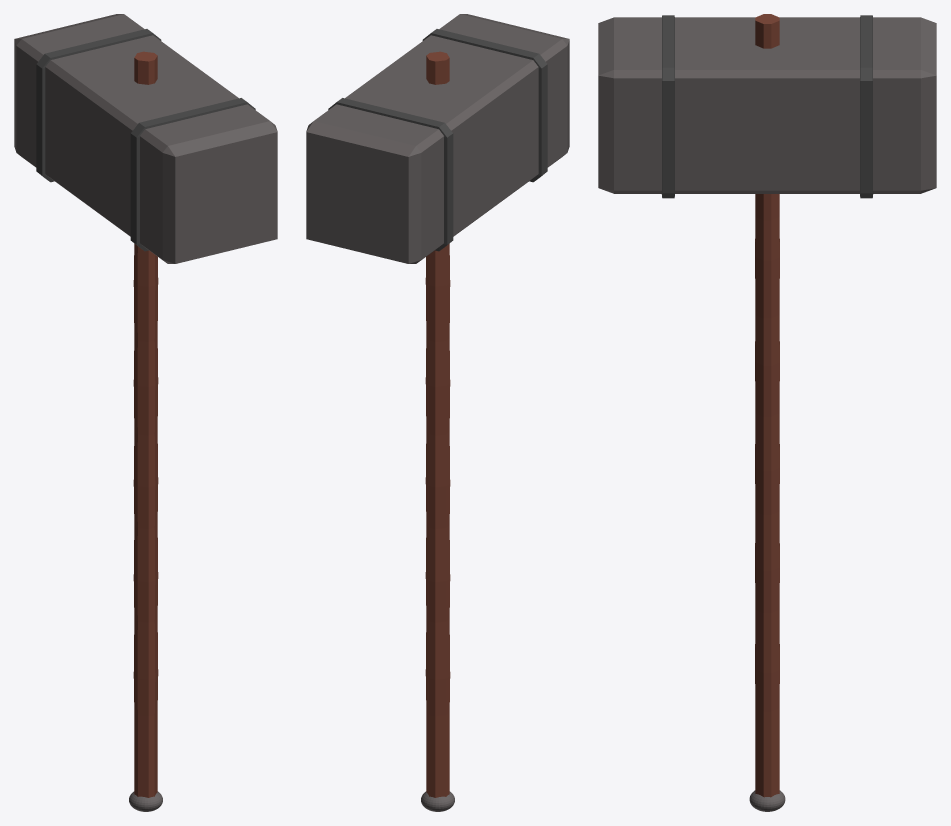
Rendered from cocan.fbx.
3 renders of one model, left to right at view 1: azimuth 30°, elevation 25°; view 2: azimuth 150°, elevation 25°; view 3: azimuth 270°, elevation 25°, orthographic. The views are drawn at different scales.
Parts seen in each view (by area): view 1: Cube, Cube.001, Cube.002, Sphere; view 2: Cube, Cube.001, Cube.002, Sphere; view 3: Cube, Cube.001, Cube.002.
Boxes of the visible parts, left/top/right/bottom form: Cube: left=14, top=14, right=277, bottom=263; Cube.001: left=133, top=51, right=158, bottom=797; Cube.002: left=36, top=29, right=255, bottom=251; Sphere: left=129, top=791, right=162, bottom=811; Cube: left=306, top=14, right=569, bottom=263; Cube.001: left=425, top=51, right=450, bottom=797; Cube.002: left=328, top=29, right=547, bottom=251; Sphere: left=421, top=791, right=454, bottom=811; Cube: left=598, top=17, right=936, bottom=193; Cube.001: left=755, top=14, right=779, bottom=797; Cube.002: left=661, top=15, right=873, bottom=198.
Bounding box in the file's own units: 120 × 727 × 282.
